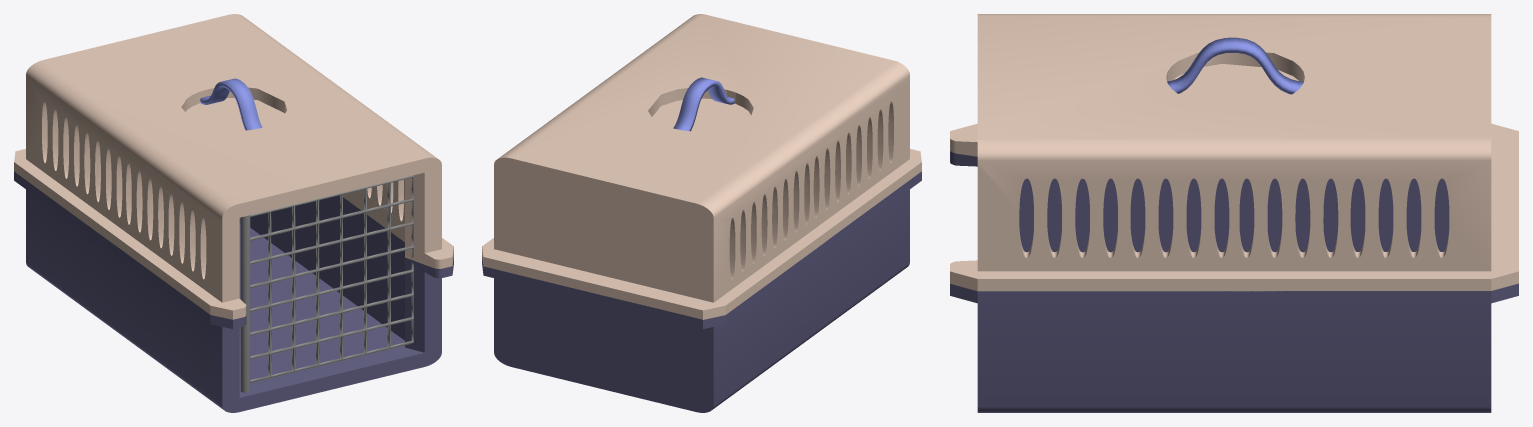
File: cat_carrier.glb
3 renders of one model, left to right at view 1: azimuth 30°, elevation 25°; view 2: azimuth 150°, elevation 25°; view 3: azimuth 270°, elevation 25°, orthographic. The views are drawn at different scales.
Parts seen in each view (by area): view 1: Cylinder.028, Plane, Cylinder, BezierCurve; view 2: Cylinder.028, BezierCurve; view 3: Cylinder.028, BezierCurve.
Part boxes in pixels (x1,y1,x2,y2): Cylinder.028: [14, 14, 453, 412]; Plane: [250, 175, 413, 382]; Cylinder: [240, 215, 250, 392]; BezierCurve: [200, 78, 262, 130]; Cylinder.028: [482, 14, 921, 412]; BezierCurve: [673, 77, 734, 131]; Cylinder.028: [950, 14, 1518, 412]; BezierCurve: [1167, 37, 1303, 94].
Bounding box in the file's own units: 2.22 × 2.05 × 3.43.
